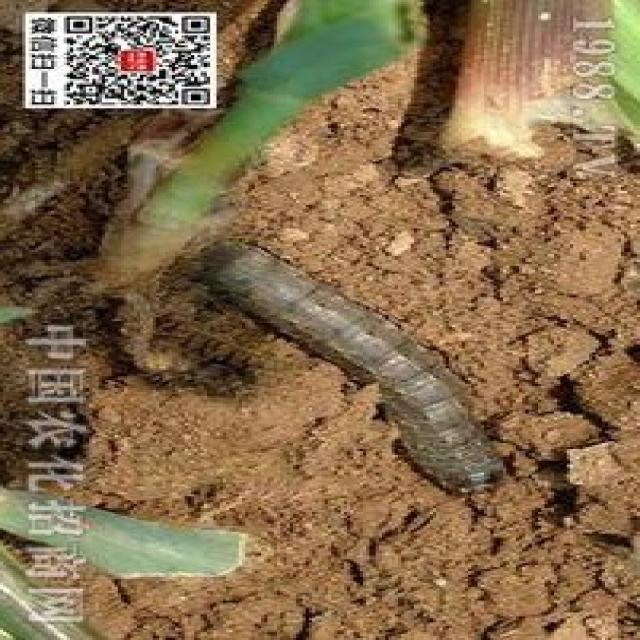black cutworm: (198, 242, 517, 500)
